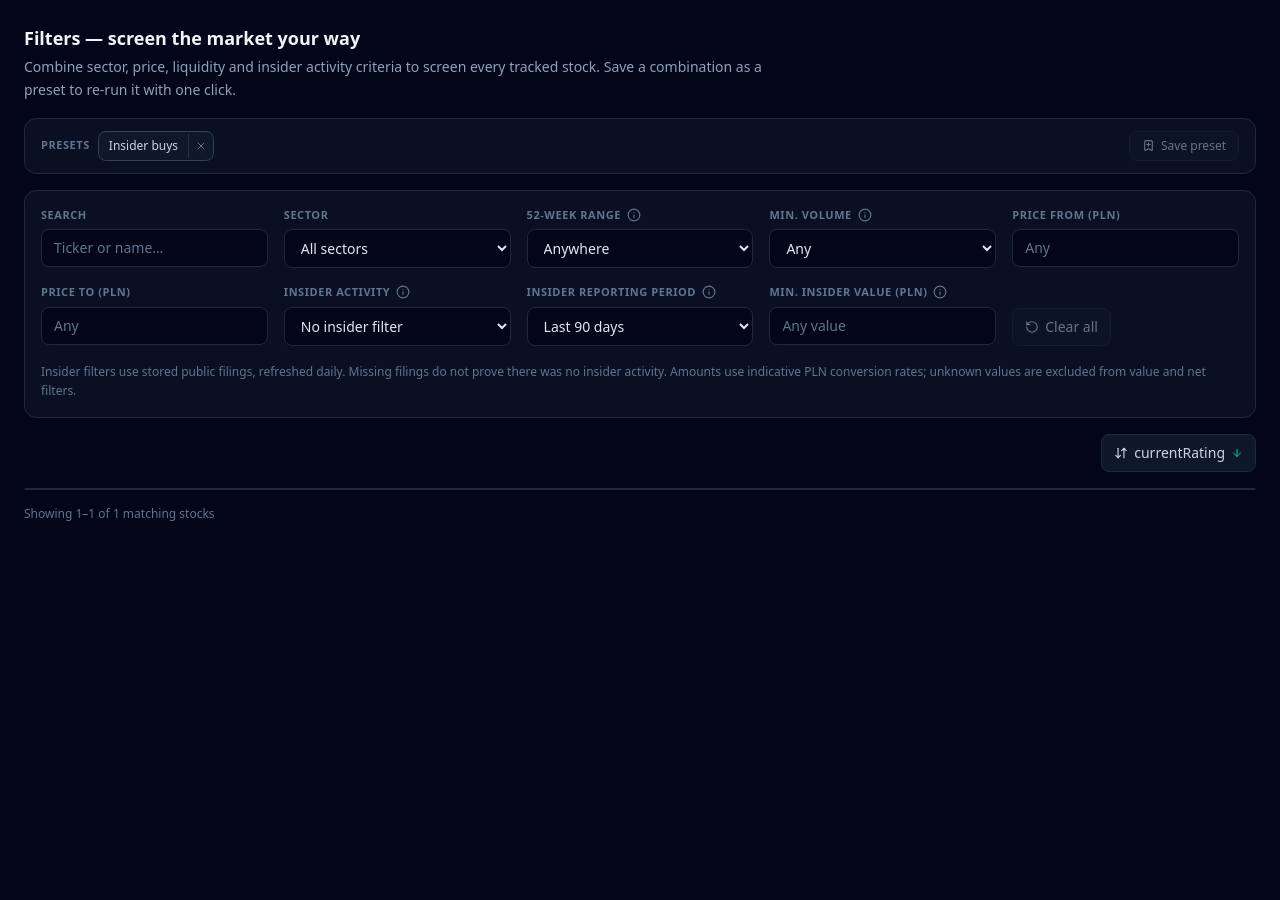
Test case: insider filters › shows the matching amounts and unknown values on desktop and mobile
Click the button "Insider buys". click: (143, 146)
box: [99,132,188,160]
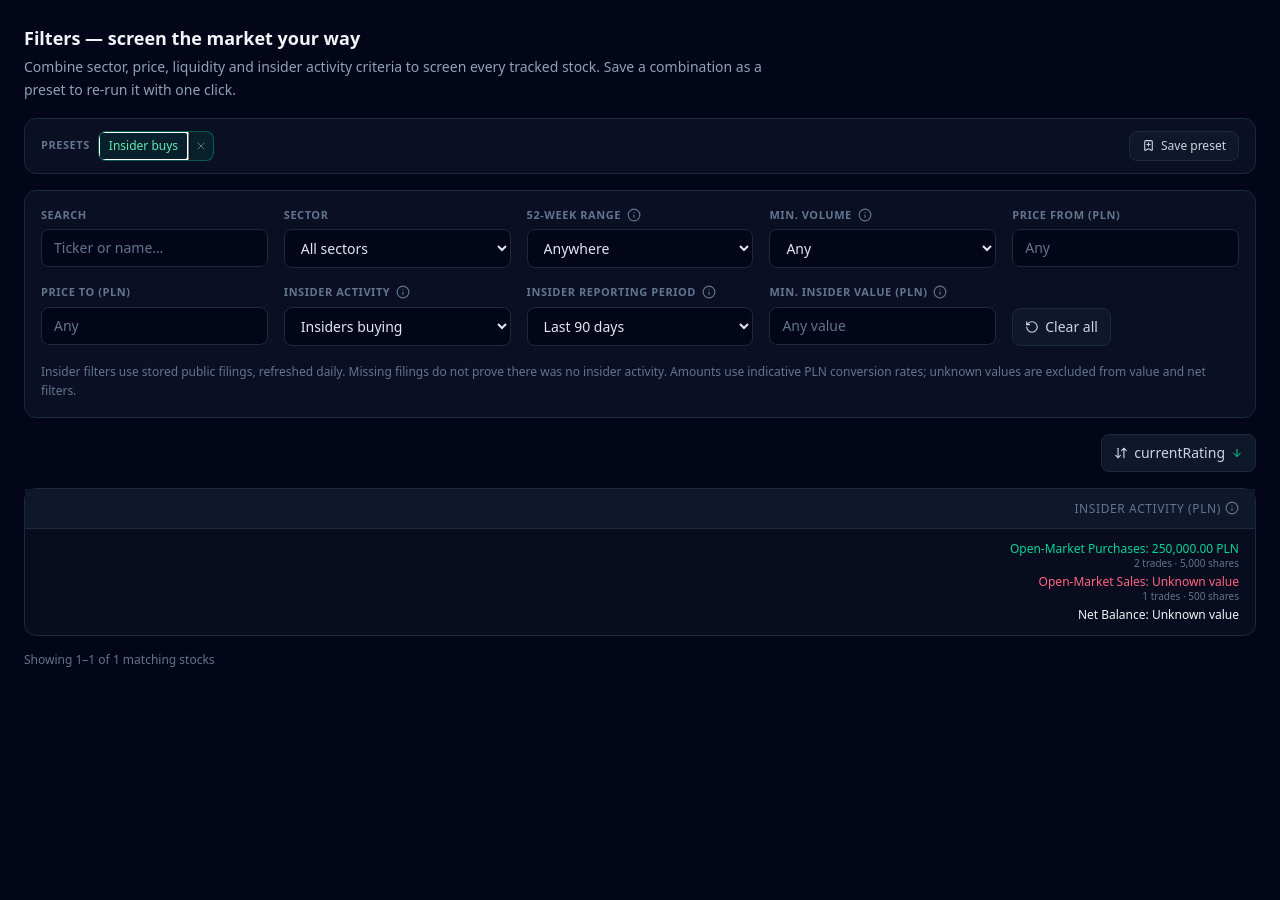
Expected: the text "250,000.00 PLN" is shown 2 times
Expected: the text "2 trades · 5,000 shares" is shown 2 times
